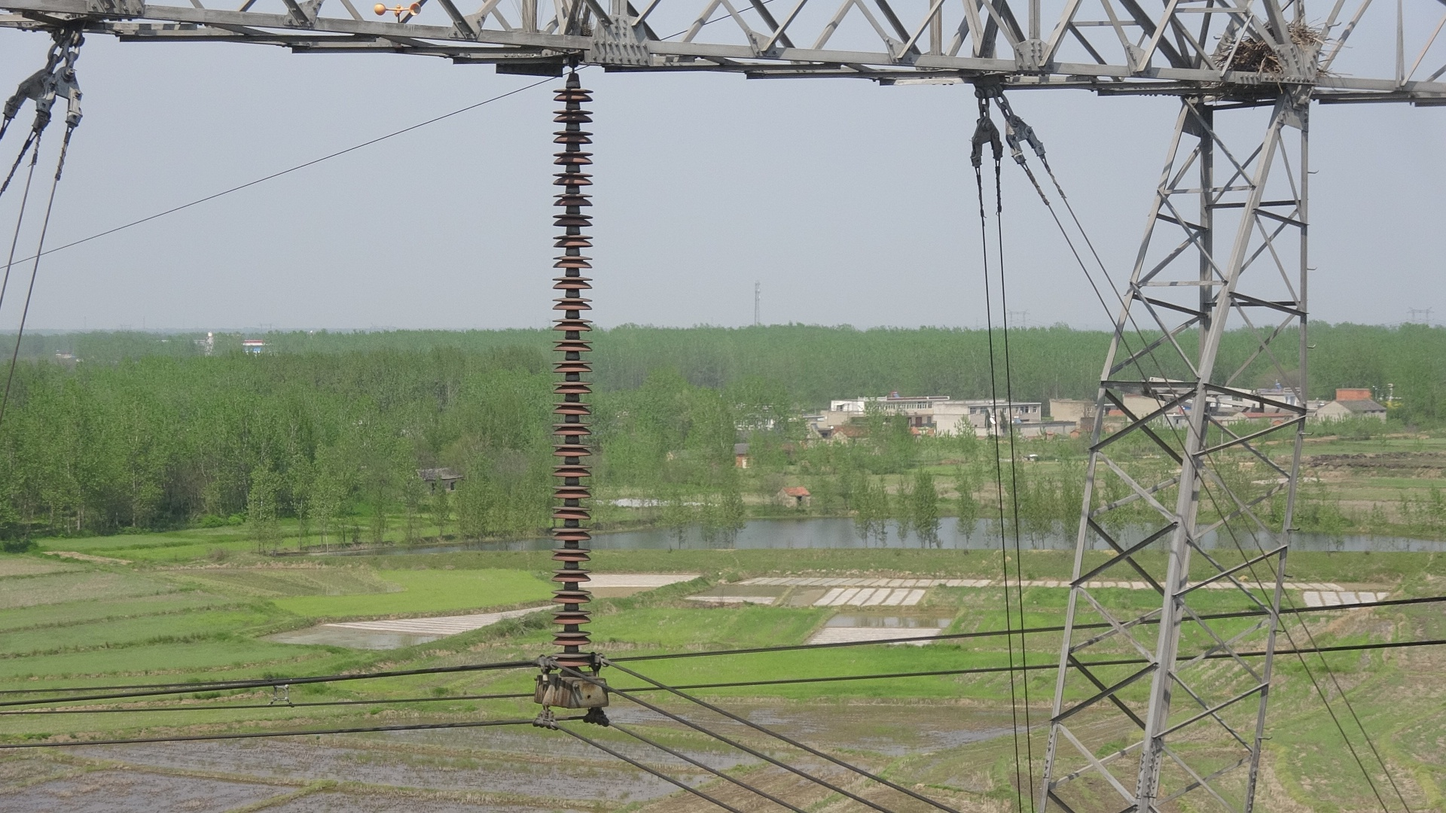insulator: (546, 80, 604, 677)
